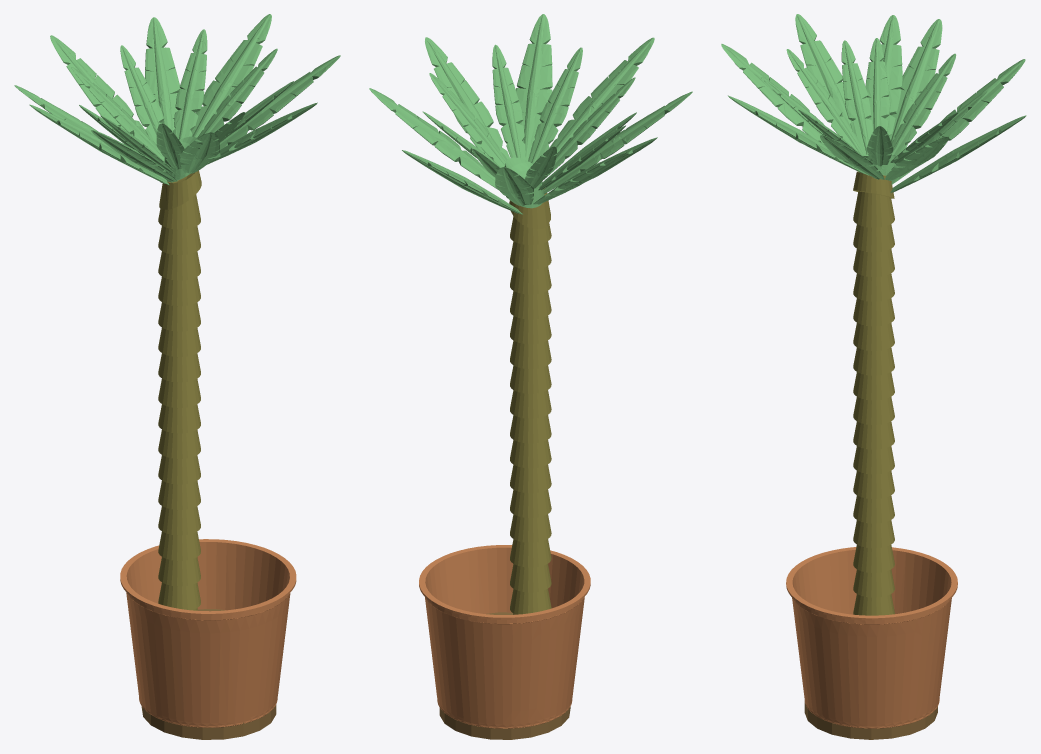
The model's file is potted_tree_4.glb.
The picture shows the model from 3 angles, left to right: view 1: azimuth 30°, elevation 25°; view 2: azimuth 150°, elevation 25°; view 3: azimuth 270°, elevation 25°; orthographic projection. The views are drawn at different scales.
Visible parts, largest first — view 1: Mesh_Mesh_head_geo.001_lambert2SG.001; view 2: Mesh_Mesh_head_geo.001_lambert2SG.001; view 3: Mesh_Mesh_head_geo.001_lambert2SG.001.
Boxes of the visible parts, x1,y1,x2,y2 form: Mesh_Mesh_head_geo.001_lambert2SG.001: (14, 14, 340, 739); Mesh_Mesh_head_geo.001_lambert2SG.001: (369, 14, 692, 739); Mesh_Mesh_head_geo.001_lambert2SG.001: (721, 14, 1026, 739).
Bounding box in the file's own units: 2.35 × 5.35 × 2.34.
